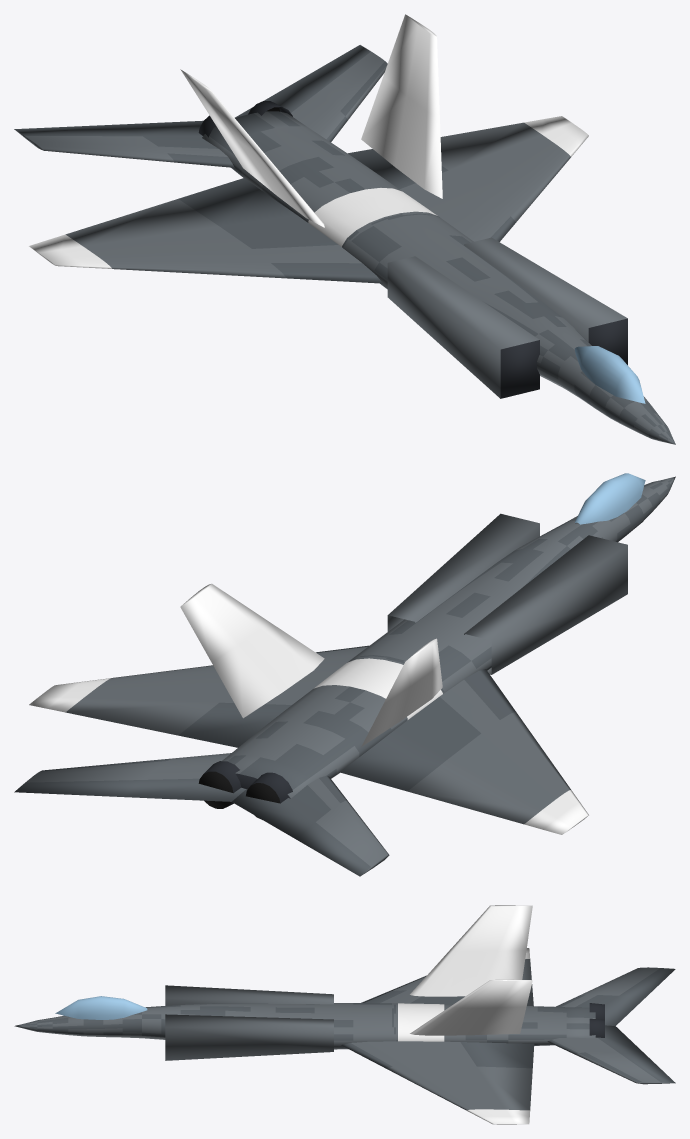
The picture shows the model from 3 angles, top to bottom: view 1: azimuth 30°, elevation 25°; view 2: azimuth 150°, elevation 25°; view 3: azimuth 270°, elevation 25°; orthographic projection. The views are drawn at different scales.
Visible parts, largest first — view 1: body; view 2: body; view 3: body.
Boxes of the visible parts, x1,y1,x2,y2 form: body: (14, 14, 675, 444); body: (14, 473, 675, 876); body: (14, 905, 675, 1124).
Bounding box in the file's own units: 13.56 × 3.55 × 21.53.
